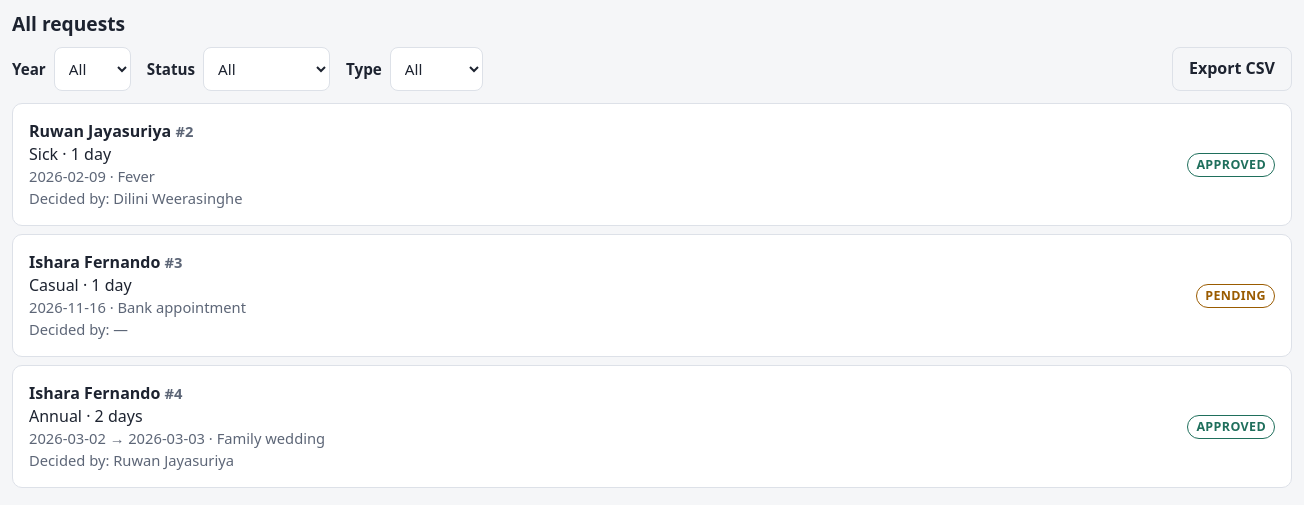
it: AllRequests (HR) › the Type filter combines with the Status filter
Check: the list item with test id "request-4" is shown, box left=12, top=365, right=1292, bottom=488
Select "Sick" in the dropdown labelled "Type" at [436, 69], box left=390, top=47, right=483, bottom=91
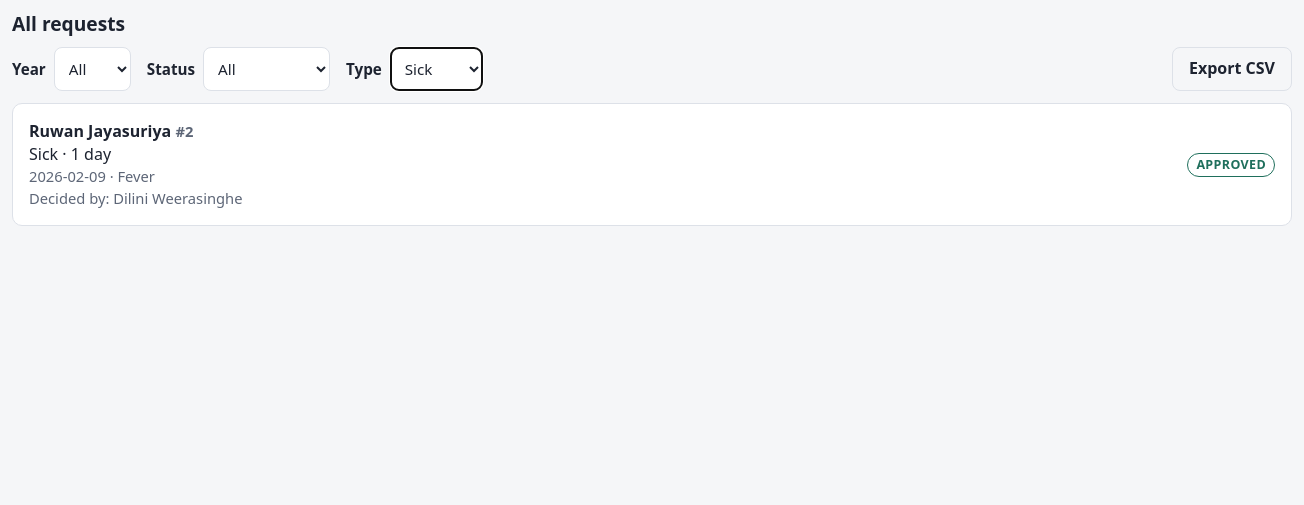
Check: the list item with test id "request-2" is shown, box left=12, top=103, right=1292, bottom=226
Check: the list item with test id "request-3" is gone
Check: the list item with test id "request-4" is gone
Select "Annual" in the dropdown labelled "Type" at [436, 69], box left=390, top=47, right=483, bottom=91
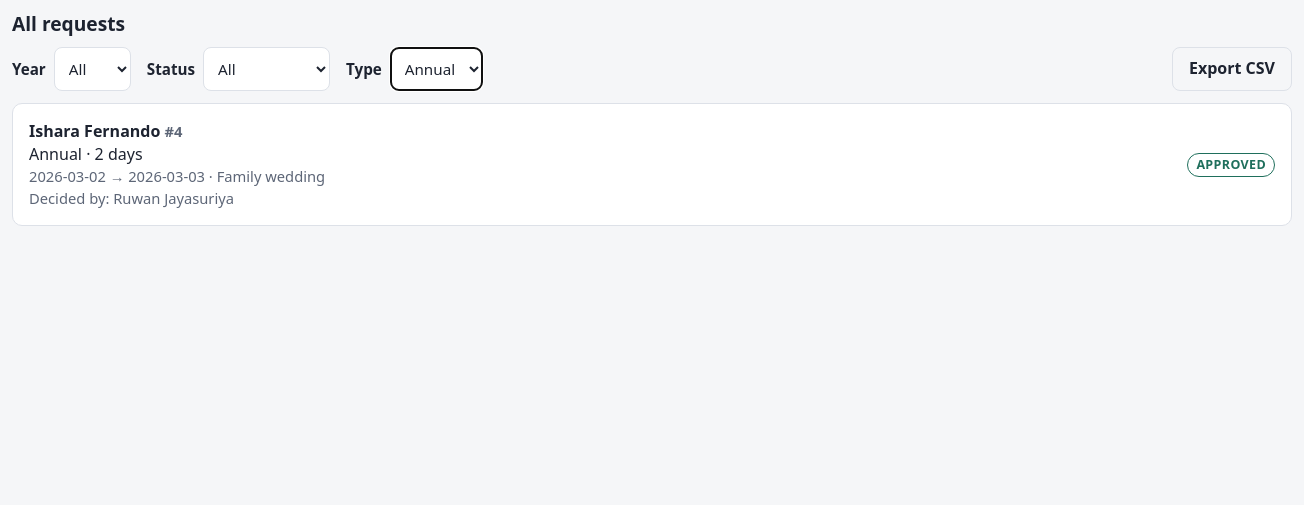
Select "PENDING" in the dropdown labelled "Status" at [266, 69], box left=203, top=47, right=330, bottom=91
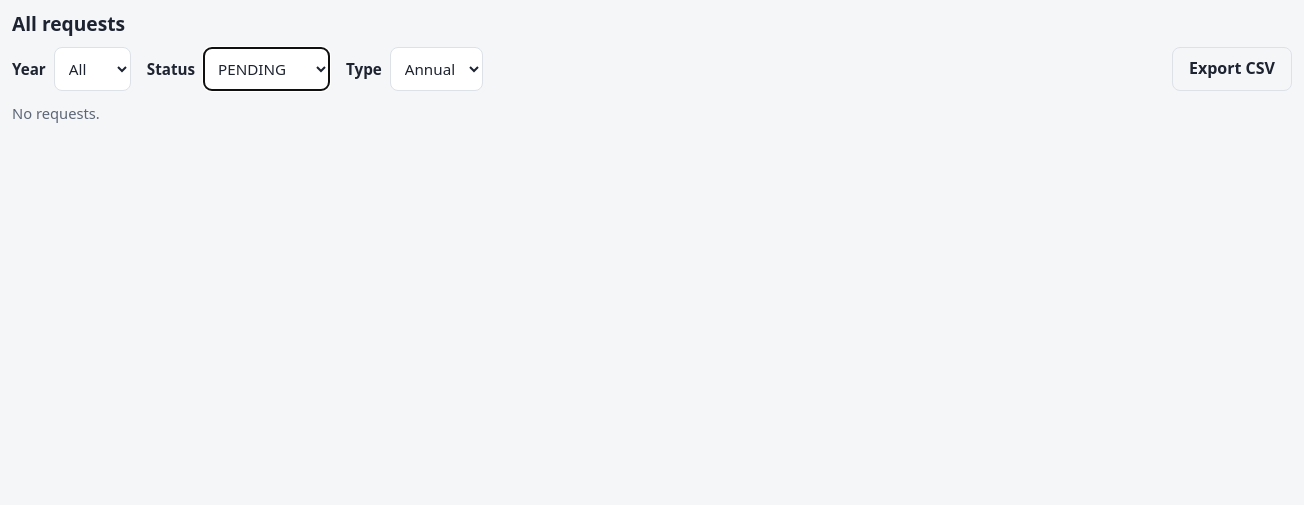
Check: the text "No requests." is shown, box left=12, top=103, right=100, bottom=123
Select "APPROVED" in the dropdown labelled "Status" at [266, 69], box left=203, top=47, right=330, bottom=91
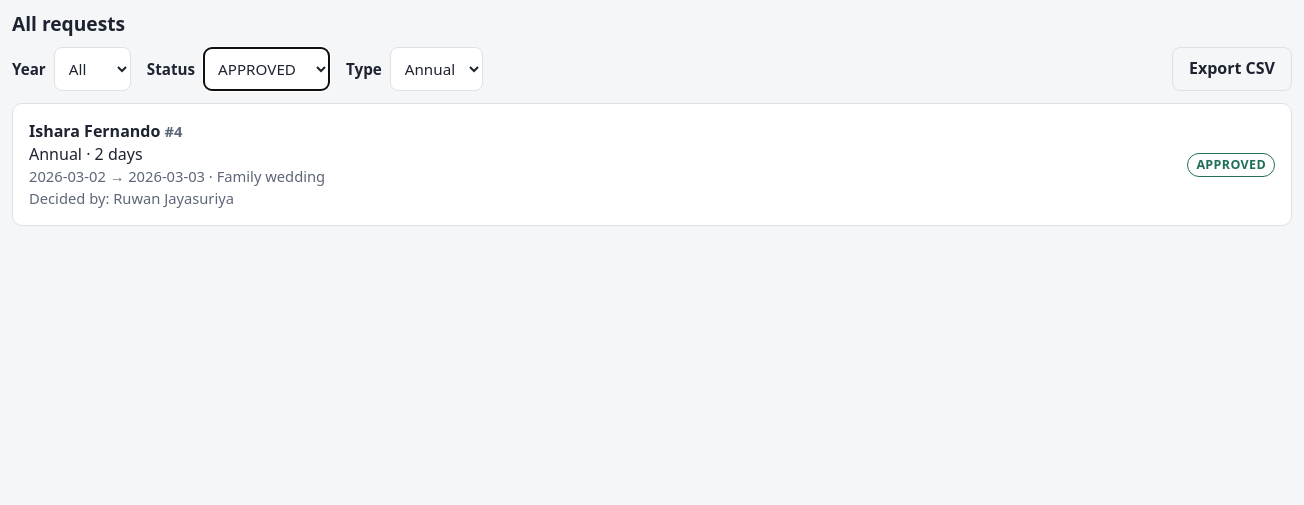
Check: the list item with test id "request-4" is shown, box left=12, top=103, right=1292, bottom=226
